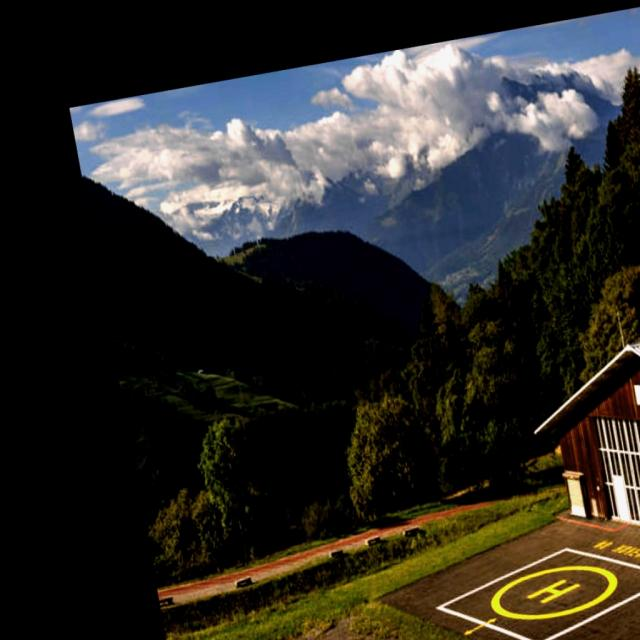helipad: (488, 561, 619, 621)
